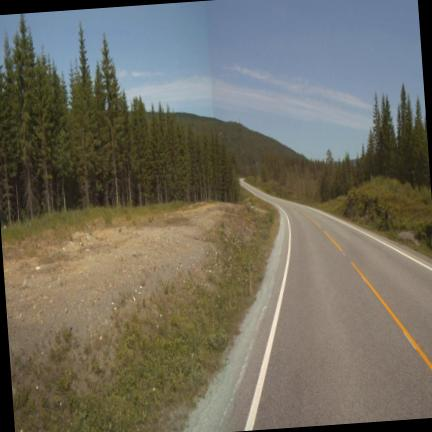Road: (228, 182, 431, 429)
